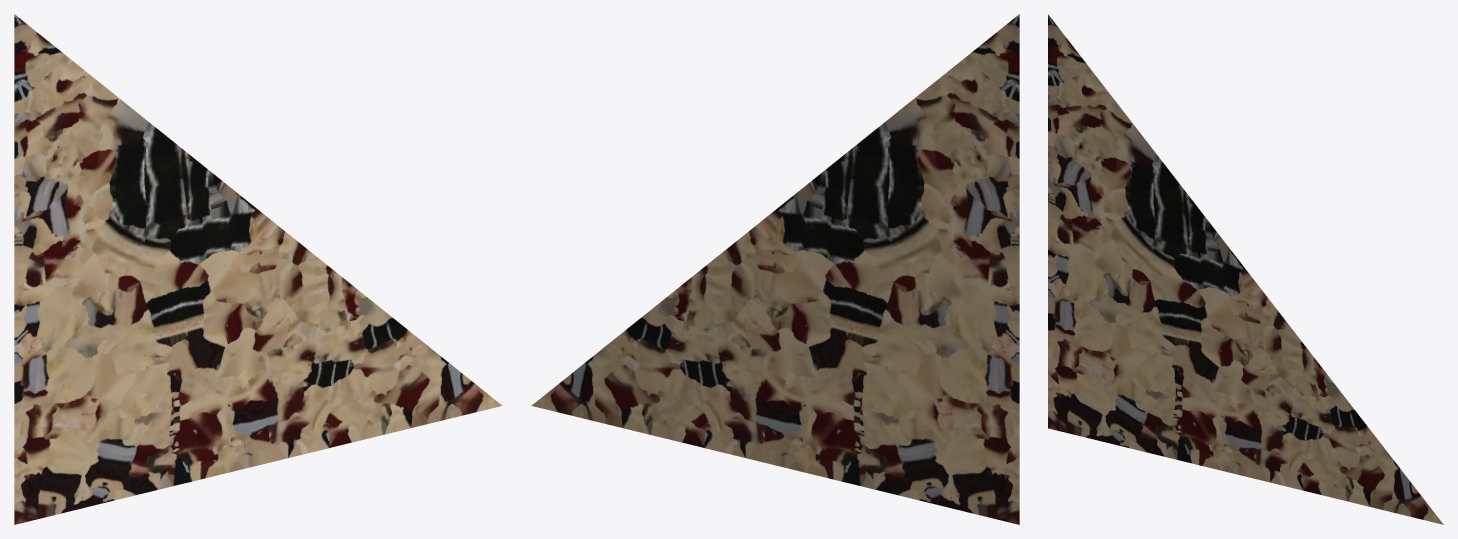
Rendered from sword-maps-hi.glb.
3 renders of one model, left to right at view 1: azimuth 30°, elevation 25°; view 2: azimuth 150°, elevation 25°; view 3: azimuth 330°, elevation 25°, orthographic. The views are drawn at different scales.
Visible parts, largest first — view 1: weapon_crimson_longsword_1_maps; view 2: weapon_crimson_longsword_1_maps; view 3: weapon_crimson_longsword_1_maps.
Boxes of the visible parts, x1,y1,x2,y2 form: weapon_crimson_longsword_1_maps: (14,14,502,524); weapon_crimson_longsword_1_maps: (531,14,1019,524); weapon_crimson_longsword_1_maps: (1048,14,1443,524).
Bounding box in the file's own units: 0.001 × 0.001 × 0.
1 material, 1 textured.
